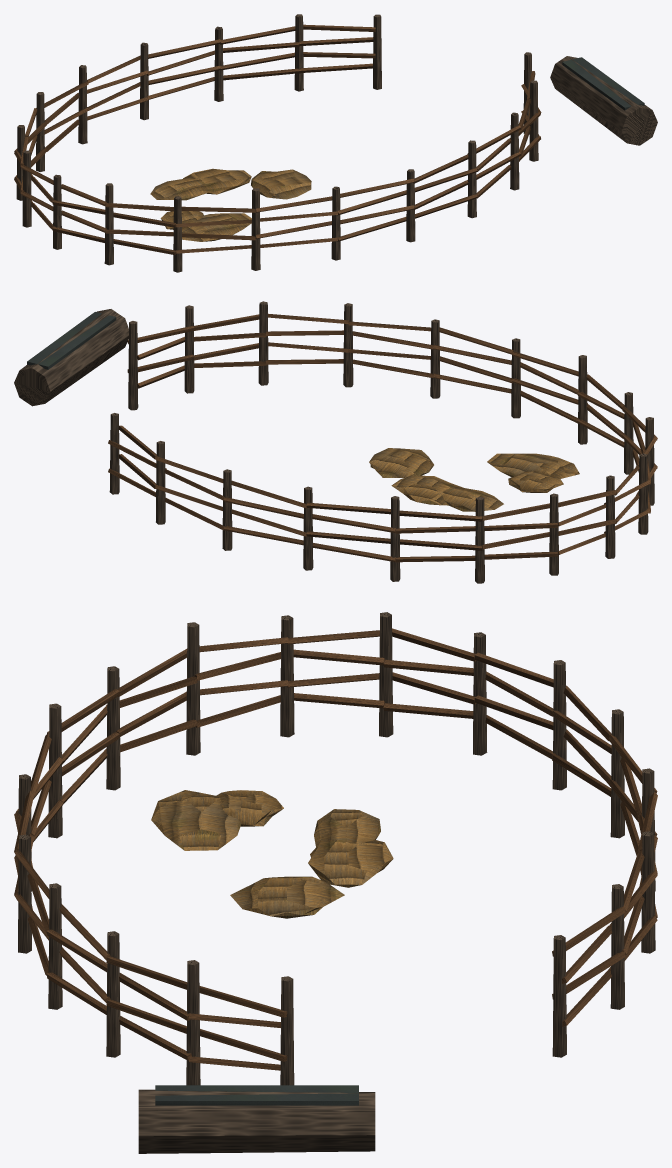
Rendered from stabbio.glb.
3 renders of one model, top to bottom at view 1: azimuth 30°, elevation 25°; view 2: azimuth 150°, elevation 25°; view 3: azimuth 270°, elevation 25°, orthographic. The views are drawn at different scales.
Parts seen in each view (by area): view 1: stabbio; view 2: stabbio; view 3: stabbio.
Boxes of the visible parts, x1,y1,x2,y2 form: stabbio: [14, 14, 657, 272]; stabbio: [14, 301, 657, 583]; stabbio: [14, 612, 657, 1153].
Bounding box in the file's own units: 8.02 × 1.08 × 4.9.
4 materials, 4 textured.
